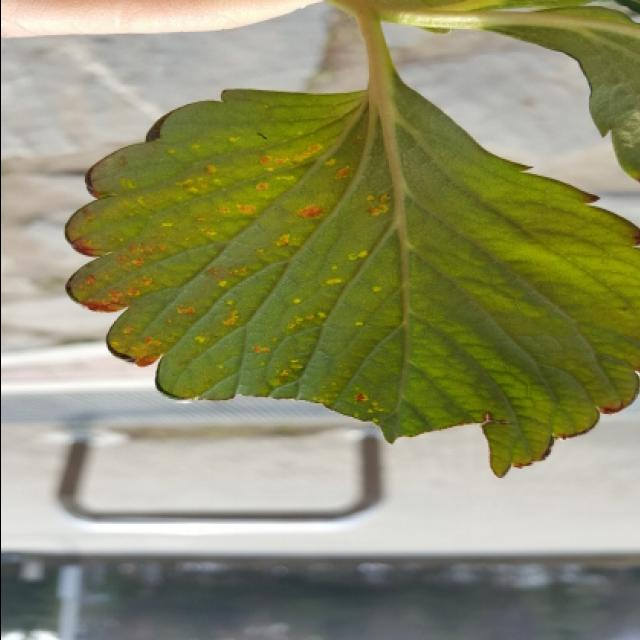Angular Leafspot: (65, 91, 400, 426)
